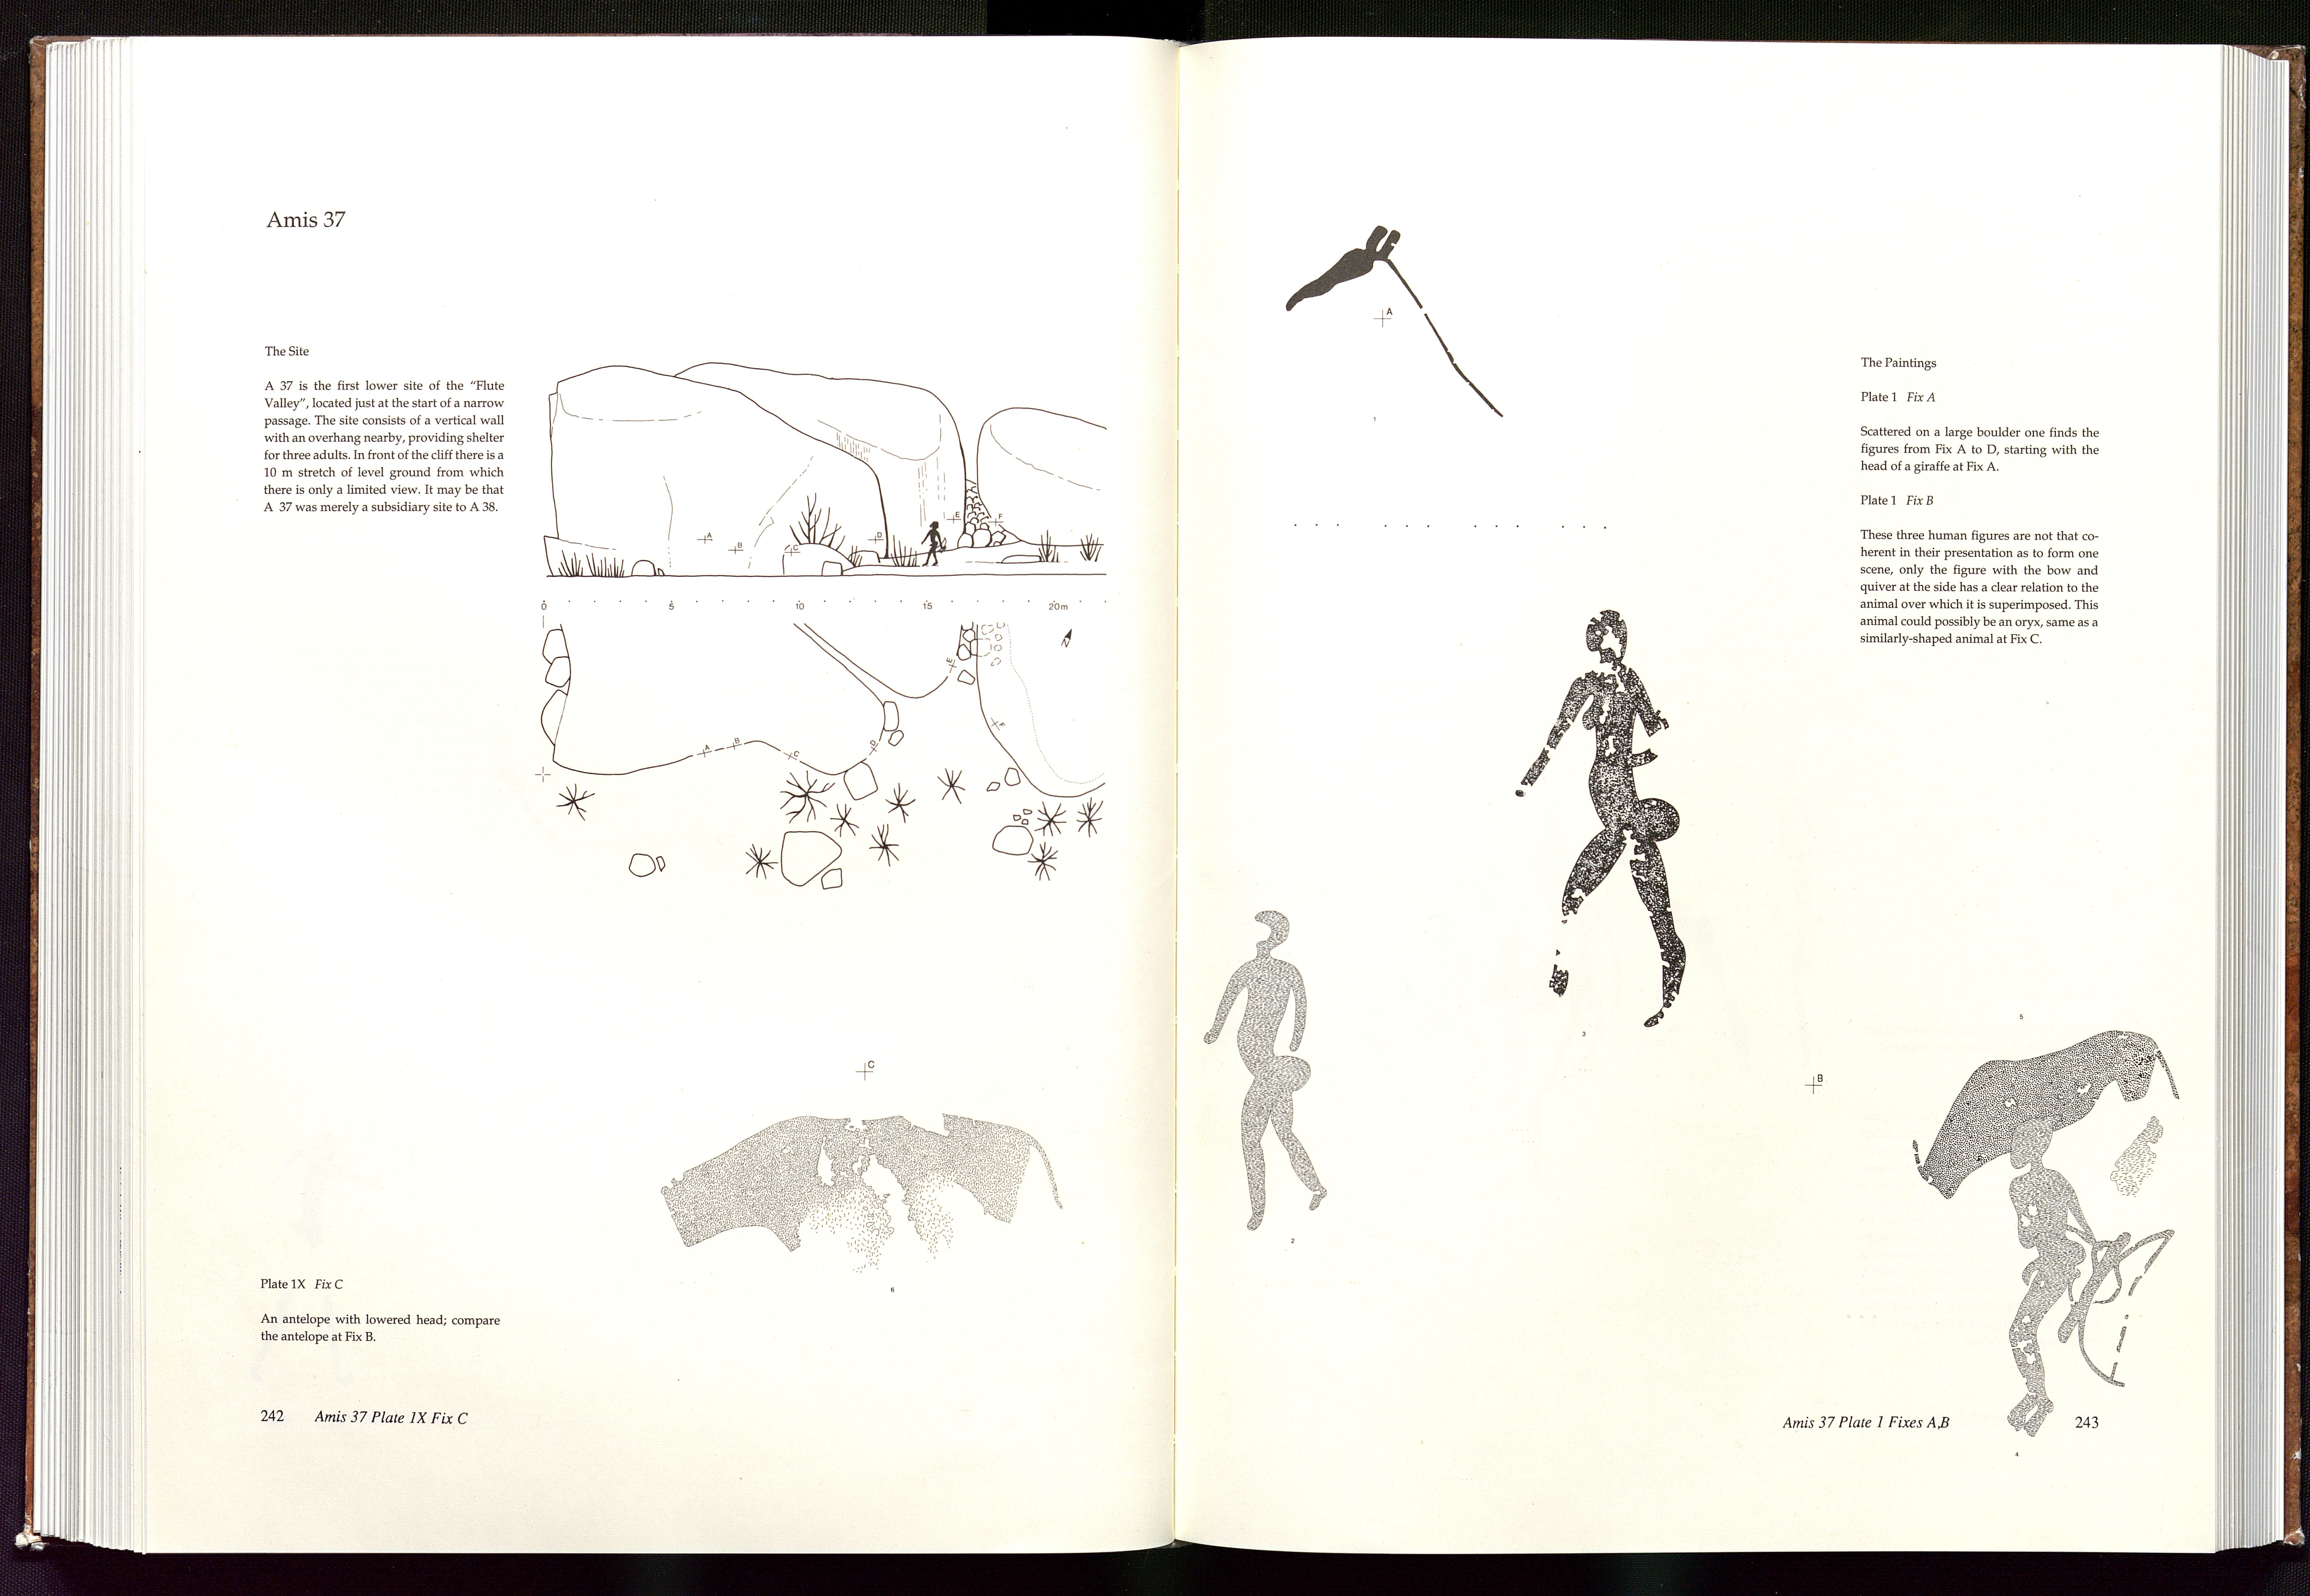human: (1517, 600, 1696, 1045), (1207, 900, 1338, 1236)
